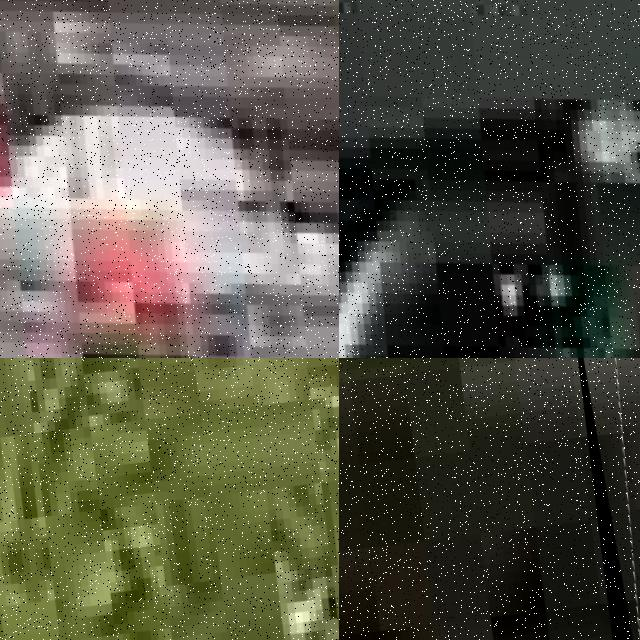drone: (0, 0, 339, 358), (339, 0, 640, 358), (564, 358, 640, 640)
